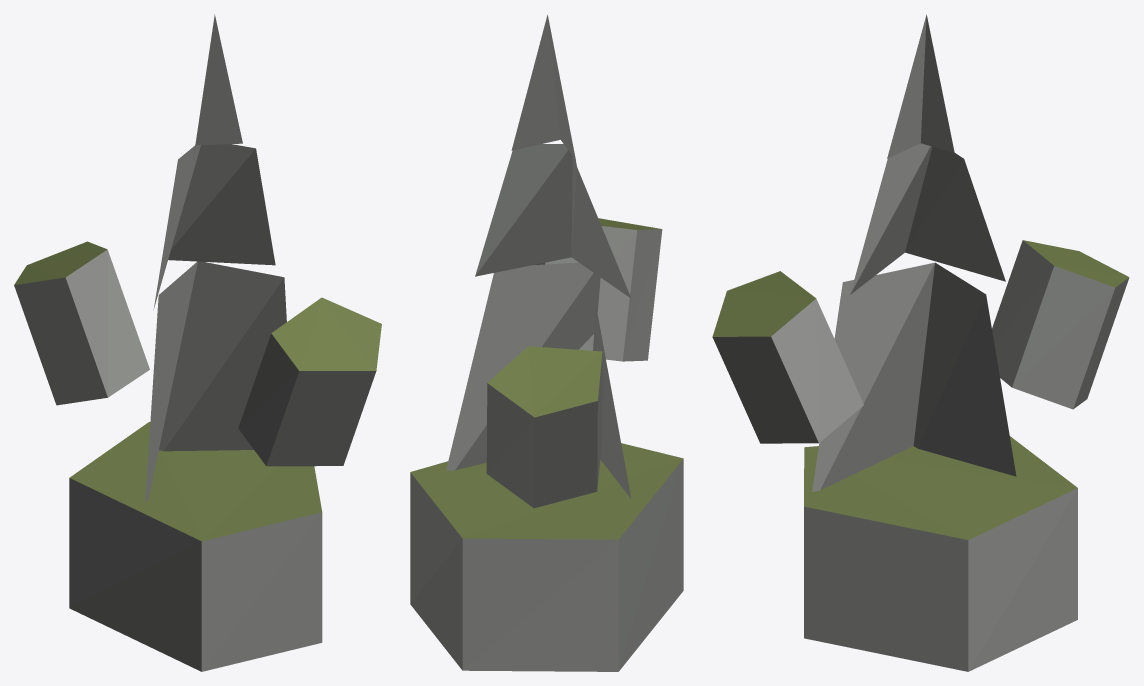
Rendered from rock.spire__buried__summer.glb.
3 renders of one model, left to right at view 1: azimuth 30°, elevation 25°; view 2: azimuth 150°, elevation 25°; view 3: azimuth 270°, elevation 25°, orthographic.
Visible parts, largest first — view 1: rock.spire; view 2: rock.spire; view 3: rock.spire.
Part boxes in pixels (x1,y1,x2,y2): rock.spire: (14, 14, 381, 671); rock.spire: (410, 15, 683, 671); rock.spire: (712, 14, 1129, 671).
Size of the model in its own units: 0.8021 by 1.9 by 1.2.
